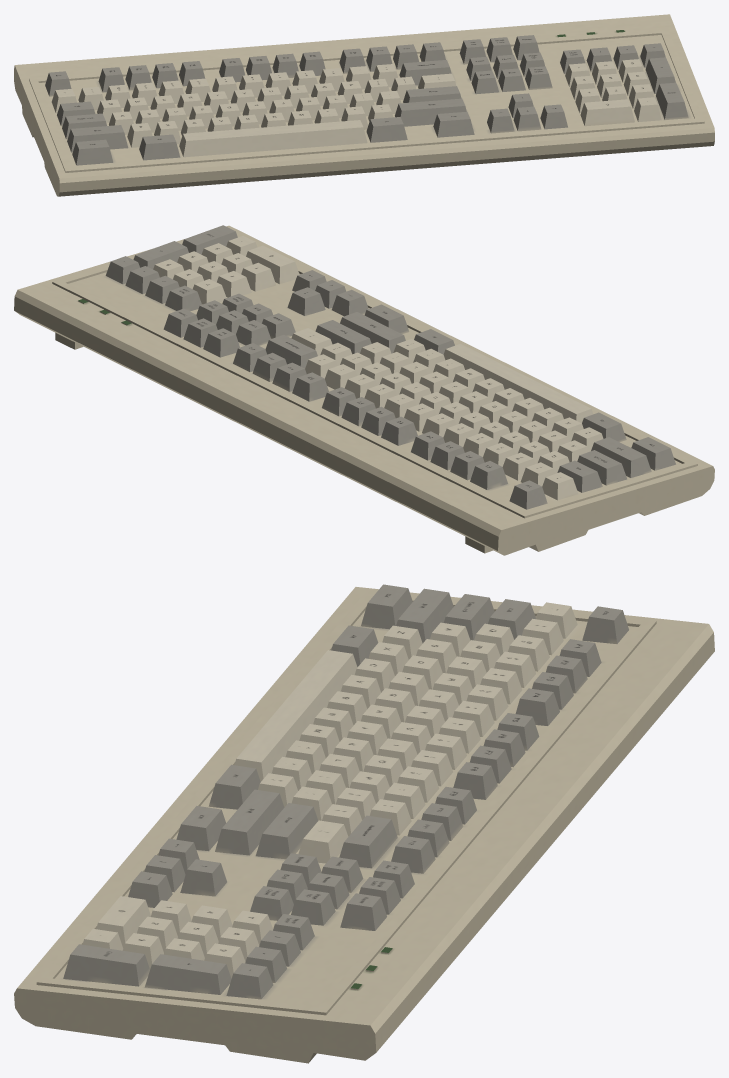
File: MainScreen_Keyboard.fbx
3 views of the same model, one above another, from view 1: azimuth 30°, elevation 25°; view 2: azimuth 150°, elevation 25°; view 3: azimuth 270°, elevation 25° (orthographic). The views are drawn at different scales.
Visible parts, largest first — view 1: MainScreen_Keyboard_Low; view 2: MainScreen_Keyboard_Low; view 3: MainScreen_Keyboard_Low.
Part boxes in pixels (x1,y1,x2,y2): MainScreen_Keyboard_Low: [14, 14, 714, 196]; MainScreen_Keyboard_Low: [14, 225, 714, 555]; MainScreen_Keyboard_Low: [14, 584, 714, 1063].
Bounding box in the file's own units: 1.11 × 0.0852 × 0.7228.
